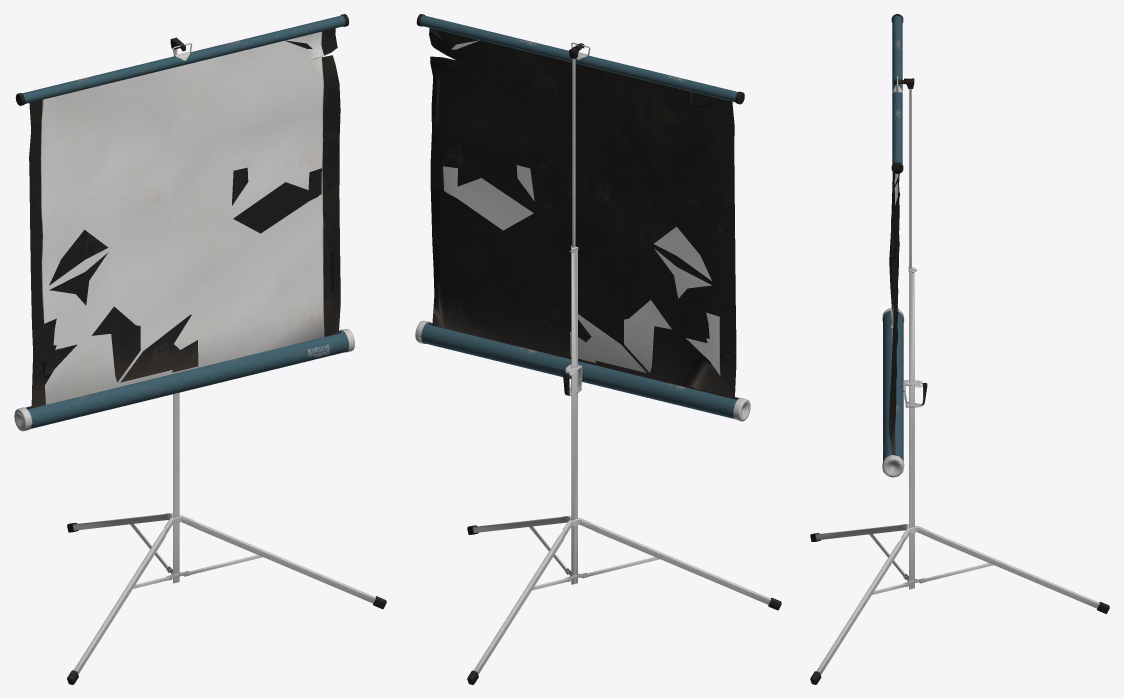
Rendered from projector-screen.glb.
The picture shows the model from 3 angles, left to right: view 1: azimuth 30°, elevation 25°; view 2: azimuth 150°, elevation 25°; view 3: azimuth 270°, elevation 25°; orthographic projection. The views are drawn at different scales.
Parts seen in each view (by area): view 1: projector_screen; view 2: projector_screen; view 3: projector_screen.
Part boxes in pixels (x1,y1,x2,y2): projector_screen: (14,14,386,684); projector_screen: (415,14,781,684); projector_screen: (810,14,1109,684).
Bounding box in the file's own units: 1.09 × 1.8 × 0.9159.
Materials: 2 (2 with a texture image).
